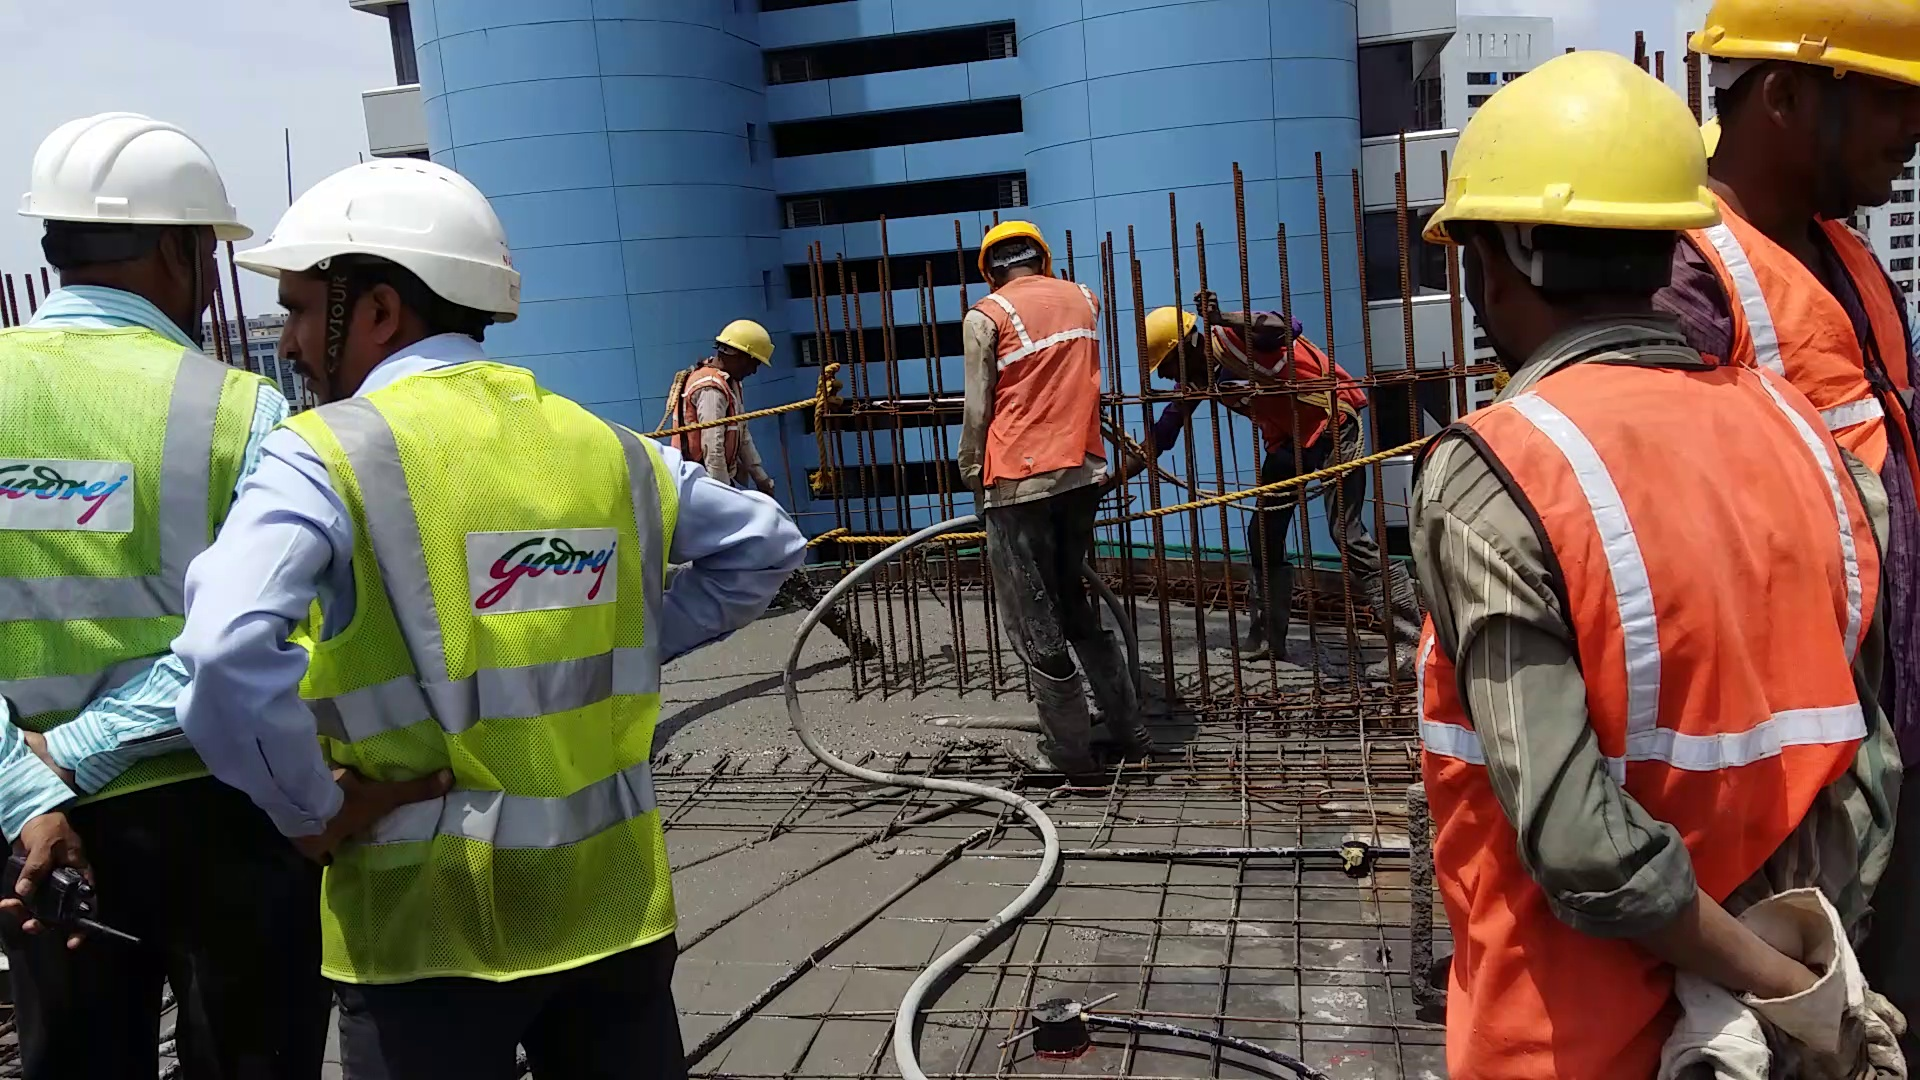SAFE: (1364, 40, 1898, 1080), (280, 144, 667, 996), (9, 113, 243, 818), (953, 212, 1109, 516)
